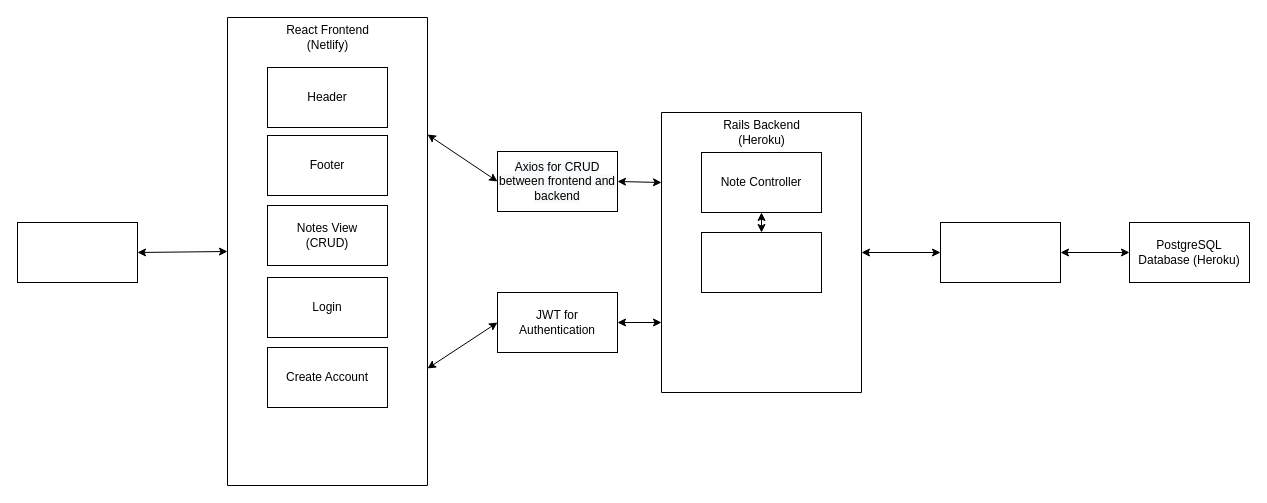
This 1267x503 diagram has some shape labels left out. Here are the shapes that lost their labels. From the top down, the centre of each, then its label:
At pixel 77 252: "Client Web Browser (including local storage for JWT)".
At pixel 761 262: "User Controller (Authentication)".
At pixel 1000 252: "Rails Active Record".
